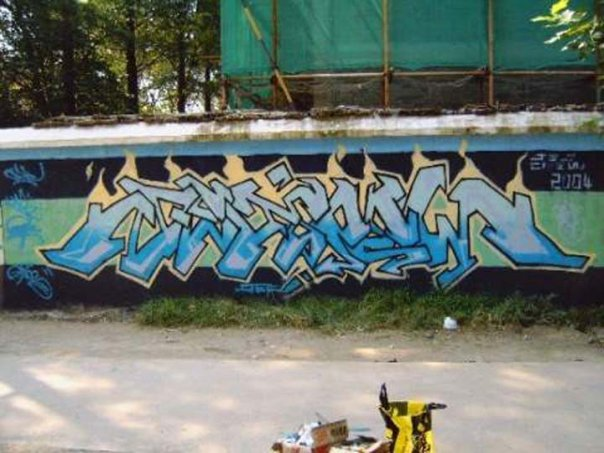graffity: (32, 142, 595, 293), (2, 155, 58, 308), (522, 141, 599, 196)
